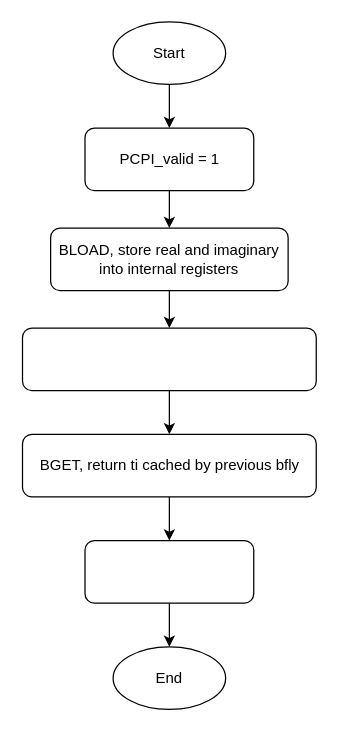
The diagram is 338 pixels wide and 731 high, and some of its shapes have lost their labels. Each missing label, with the centre of its shape:
BFLY, compute butterfly using stored real/imag and incoming c/s then return tr: (168,359)
PCPI_ready = 1: (169,571)
